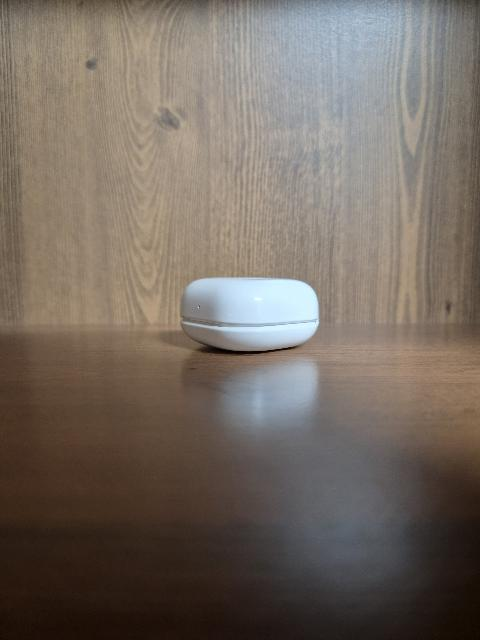earphone_case: (180, 276, 319, 352)
